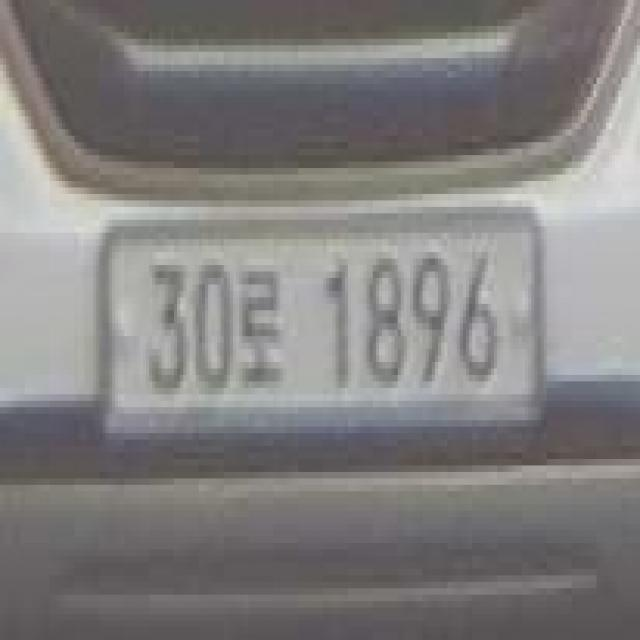0: (196, 258, 236, 401)
1: (323, 252, 351, 394)
3: (149, 252, 190, 394)
6: (457, 246, 500, 388)
8: (364, 252, 410, 394)
9: (410, 252, 454, 394)
license_plate: (96, 200, 550, 440)
lo: (236, 265, 283, 388)
